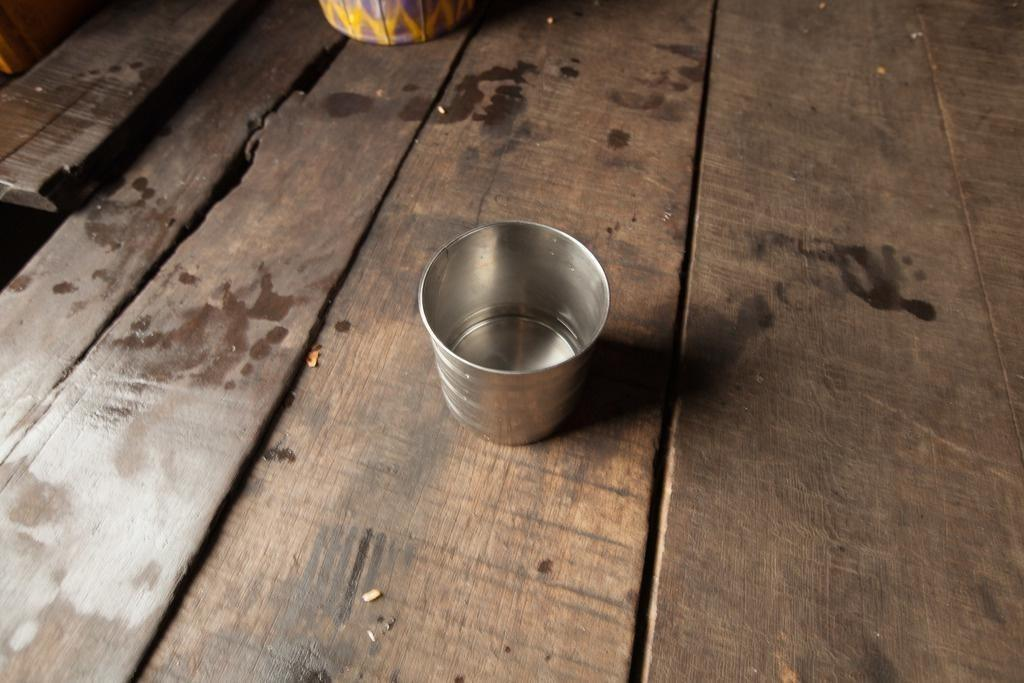cup-disposable: (416, 218, 613, 446)
